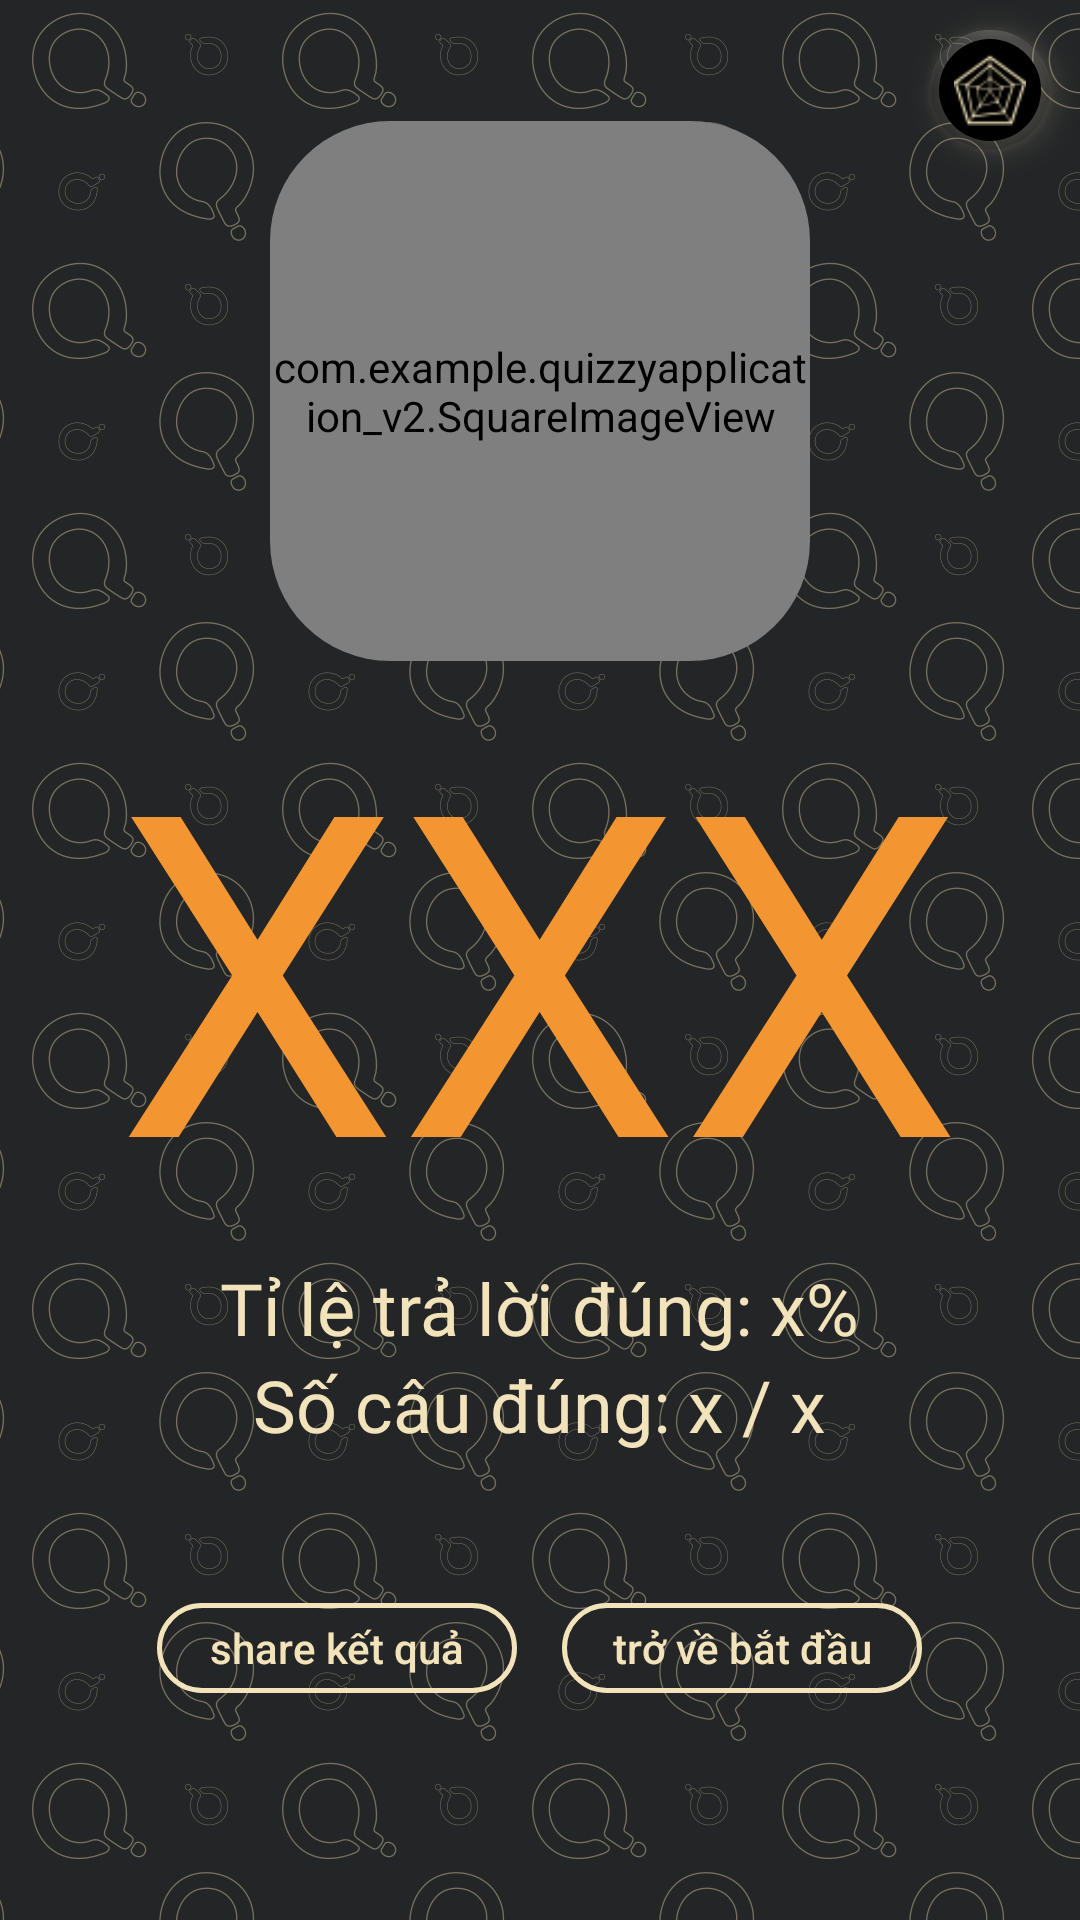

Icon bounding boxes for this 1080x1920 phone screenshot, format (x1, y1, x2, y2):
chart: (930, 30, 1050, 150)
